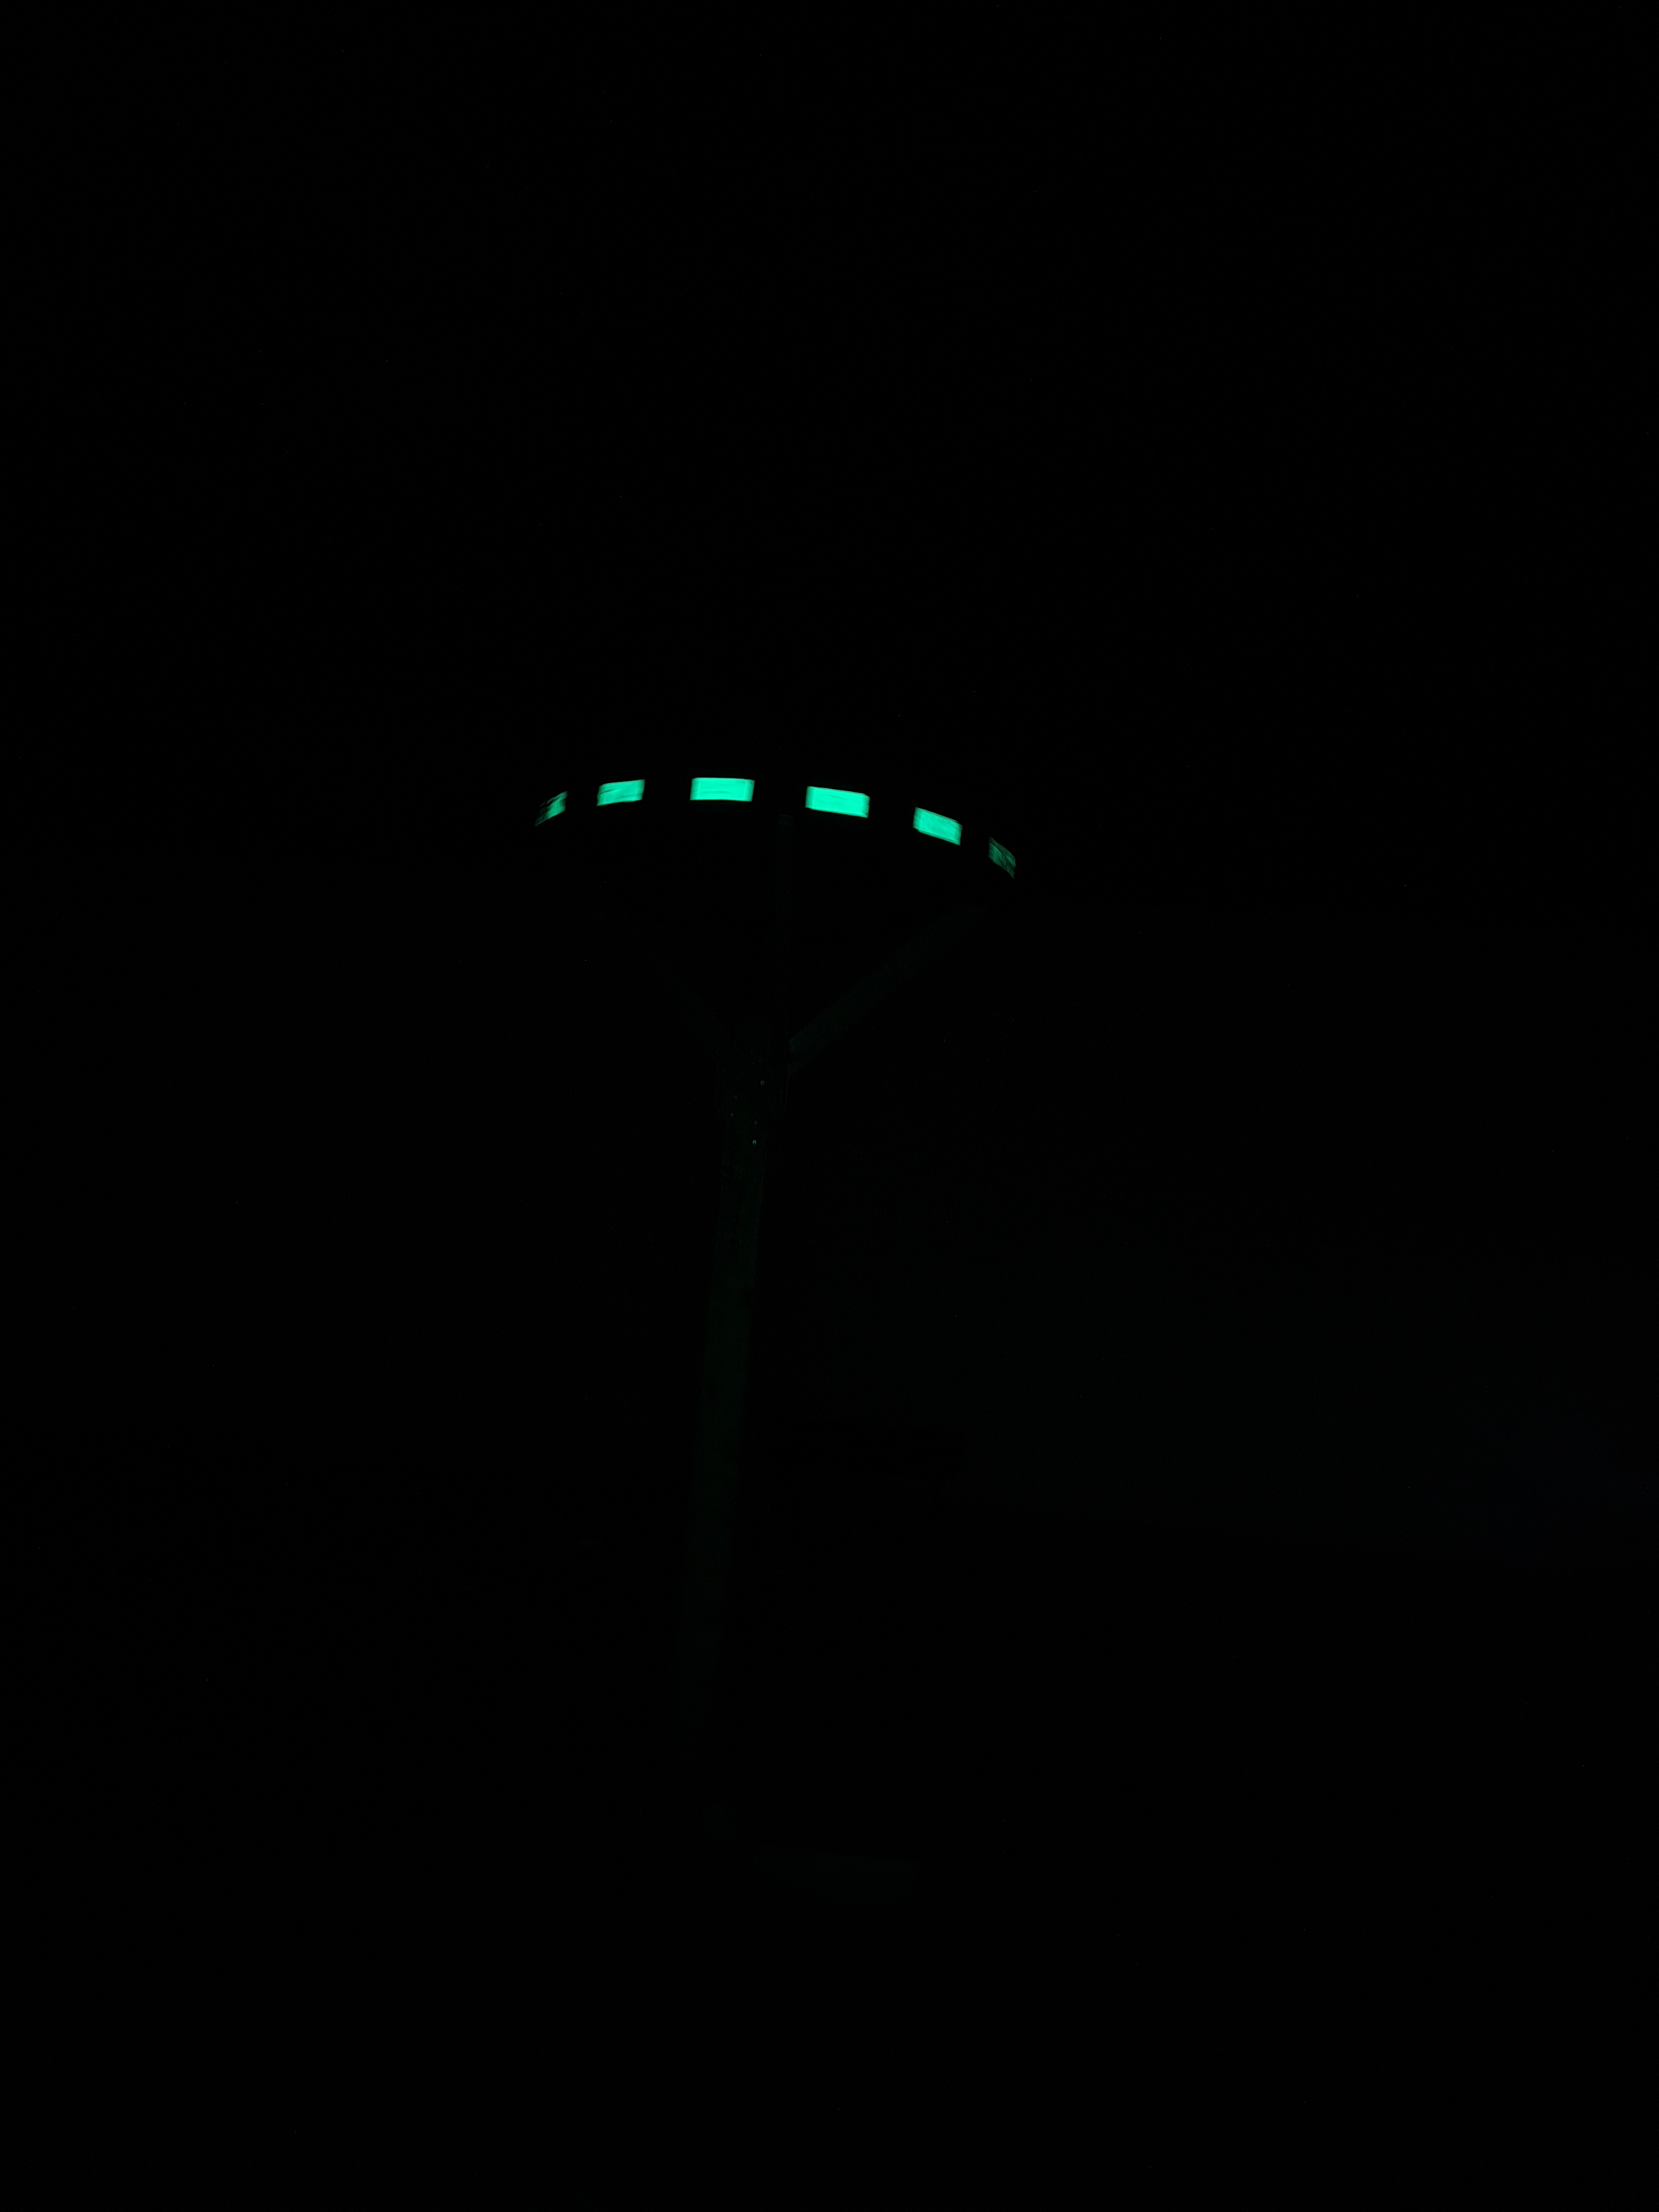hoop: (530, 770, 1025, 883)
